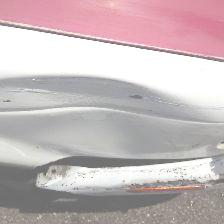bumper_dent: (1, 67, 223, 197)
